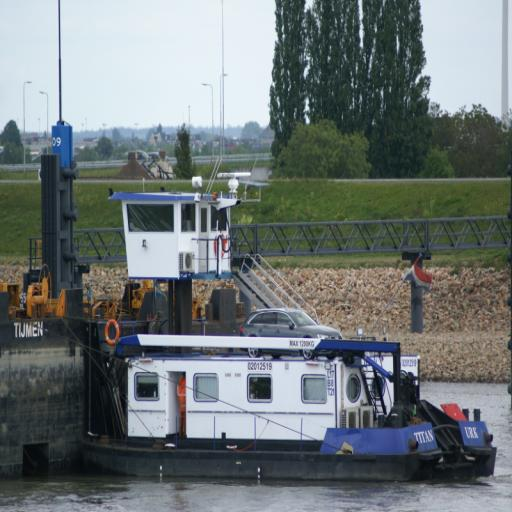tugboat: (76, 154, 500, 492)
